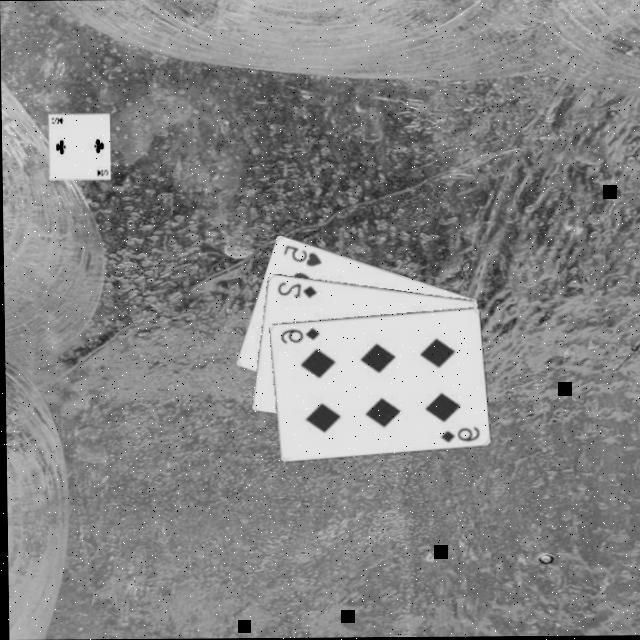2D: (272, 277, 318, 299)
5H: (278, 240, 322, 268)
6D: (275, 323, 320, 345), (435, 421, 480, 443)
